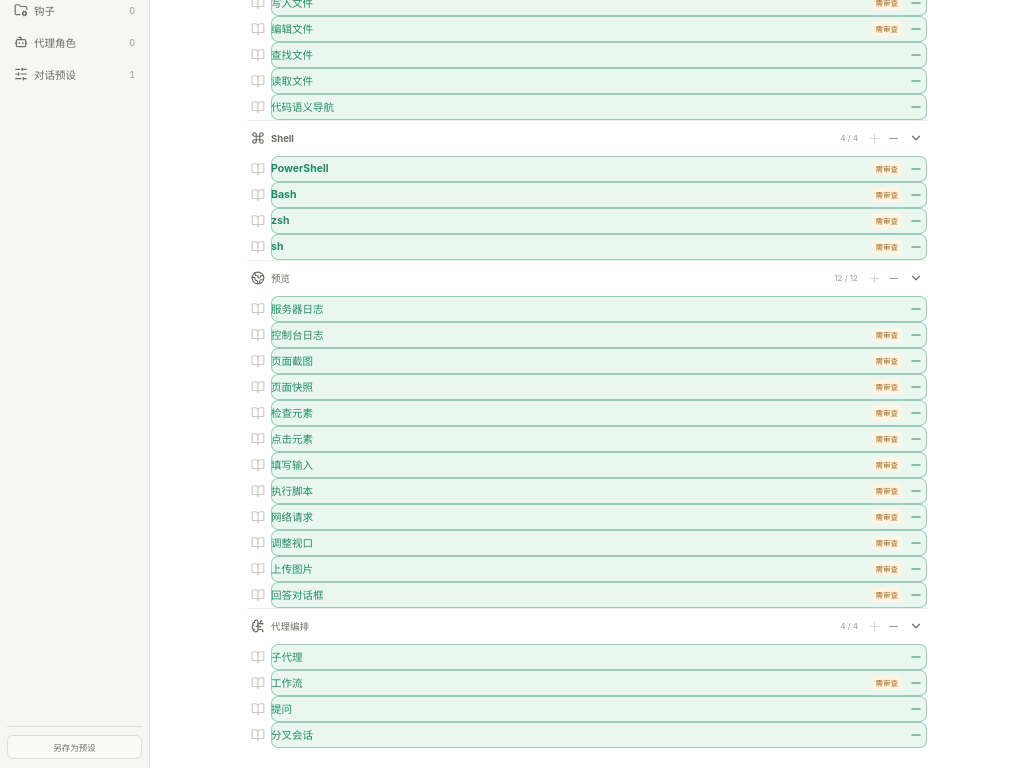
Test: ConversationSettings › keeps the save-as-preset entry point as the last thing in the nav
The width and height of the screenshot is (1024, 768).
(page scrolled)
Click the button "另存为预设": (74, 746) [7,734,142,758]
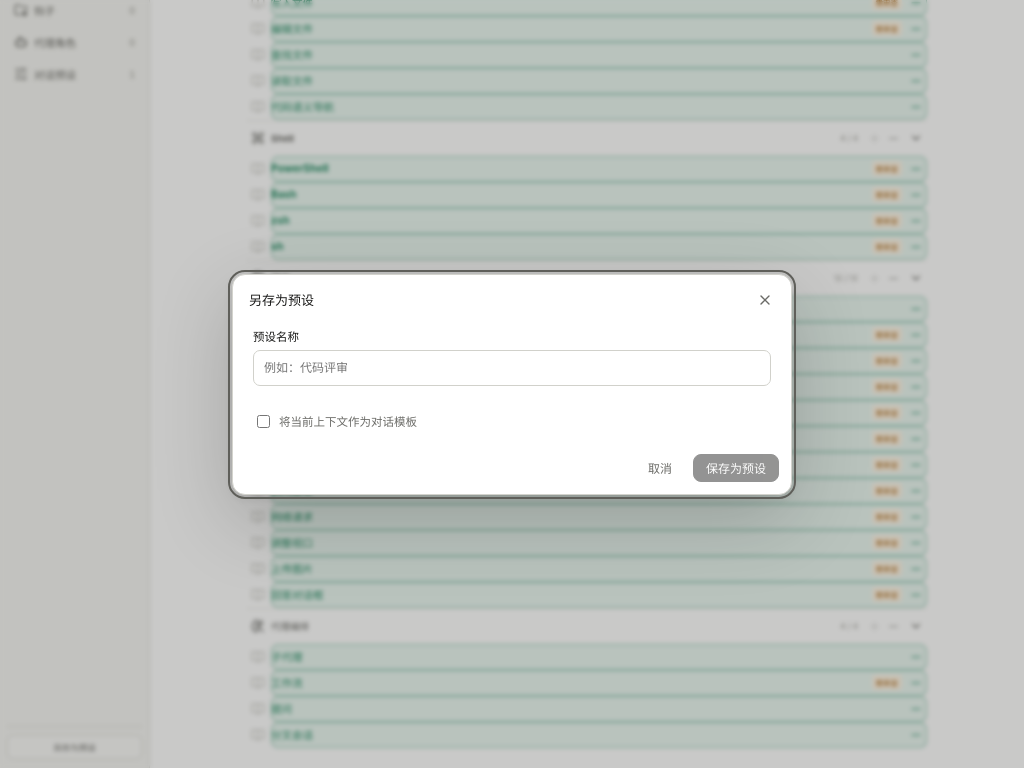
Now the dialog "另存为预设" is shown, box [232,274,792,494]
